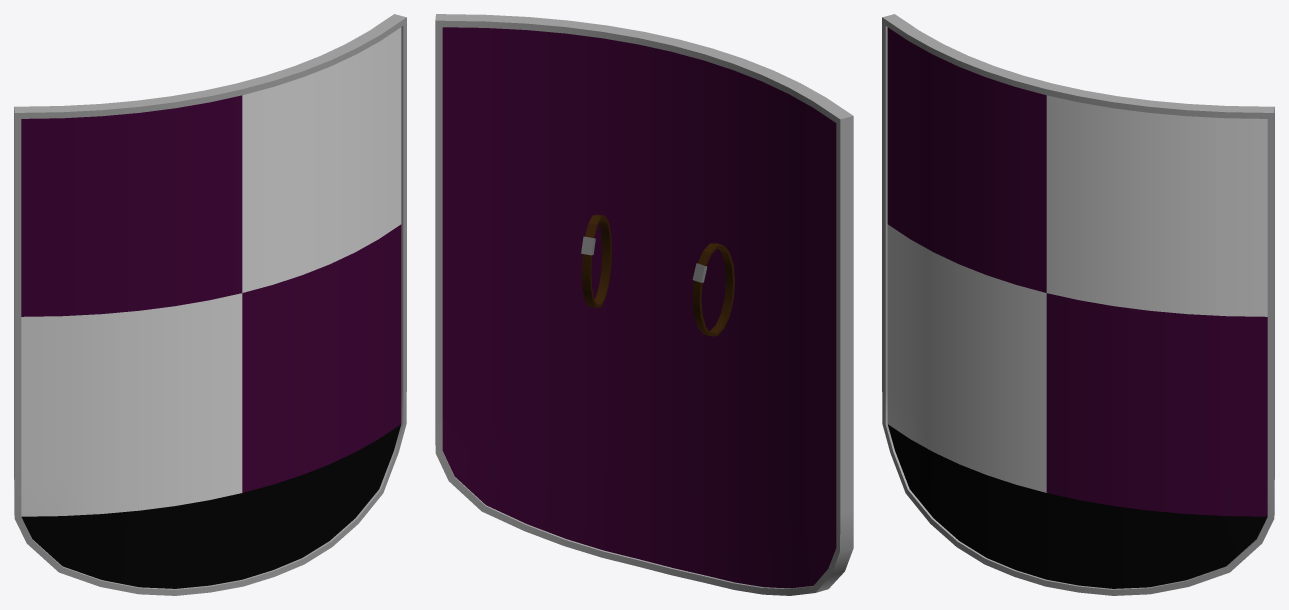
File: AR_Shield_V1.fbx
The picture shows the model from 3 angles, left to right: view 1: azimuth 30°, elevation 25°; view 2: azimuth 150°, elevation 25°; view 3: azimuth 330°, elevation 25°; orthographic projection. The views are drawn at different scales.
Visible parts, largest first — view 1: ShieldVisual; view 2: ShieldVisual; view 3: ShieldVisual.
Part boxes in pixels (x1,y1,x2,y2): ShieldVisual: (14,14,406,595); ShieldVisual: (435,14,853,595); ShieldVisual: (882,14,1274,595).
Size of the model in its own units: 206 by 250 by 35.71.
